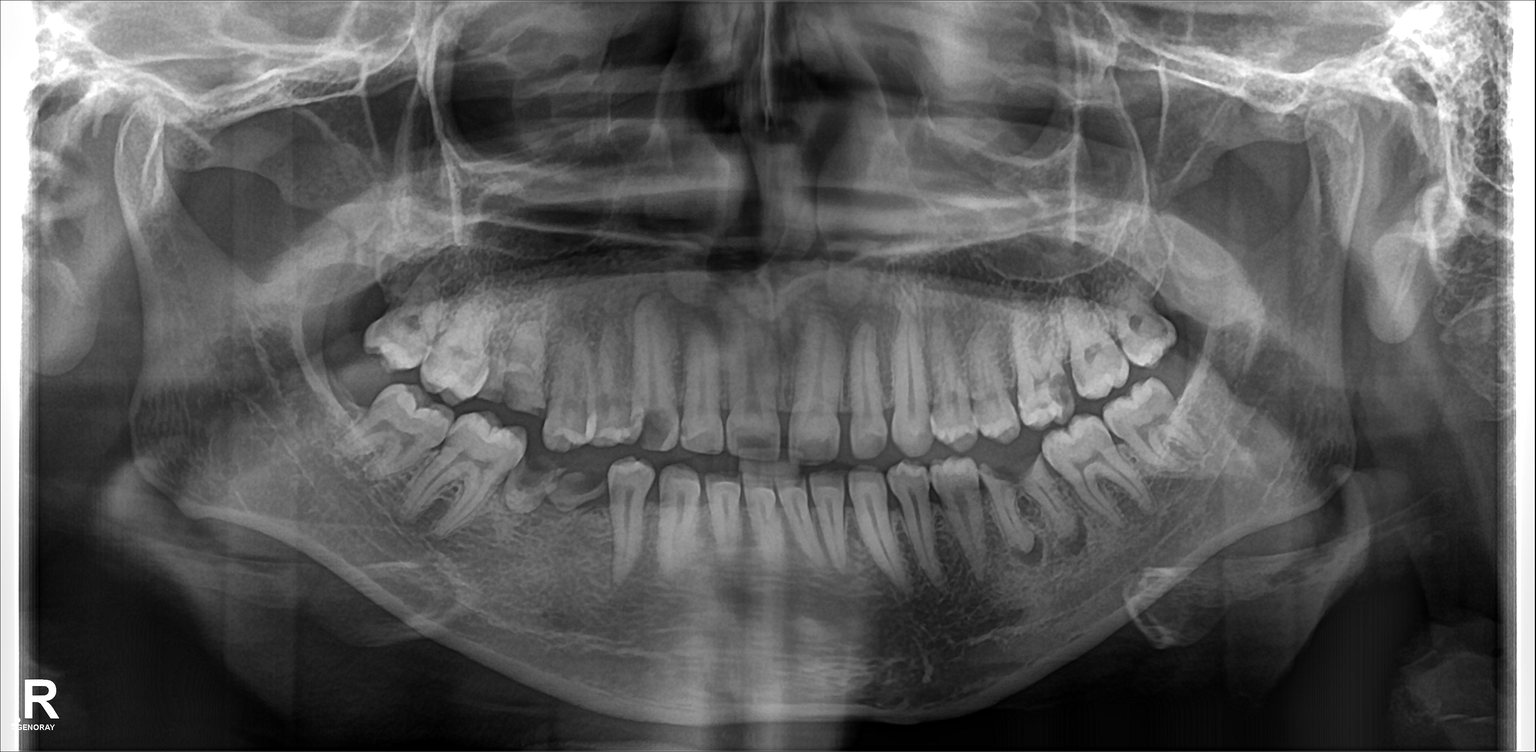Dental Caries: (1047, 370, 1080, 411)
Impacted Third Molar: (1108, 383, 1201, 465)
Missing Tooth: (328, 257, 375, 350), (330, 367, 369, 442)
Periapical Lesion: (1000, 497, 1099, 581)
Retained Root: (497, 326, 548, 425), (1021, 437, 1056, 572), (987, 452, 1021, 573), (553, 449, 597, 530), (514, 449, 551, 544)
